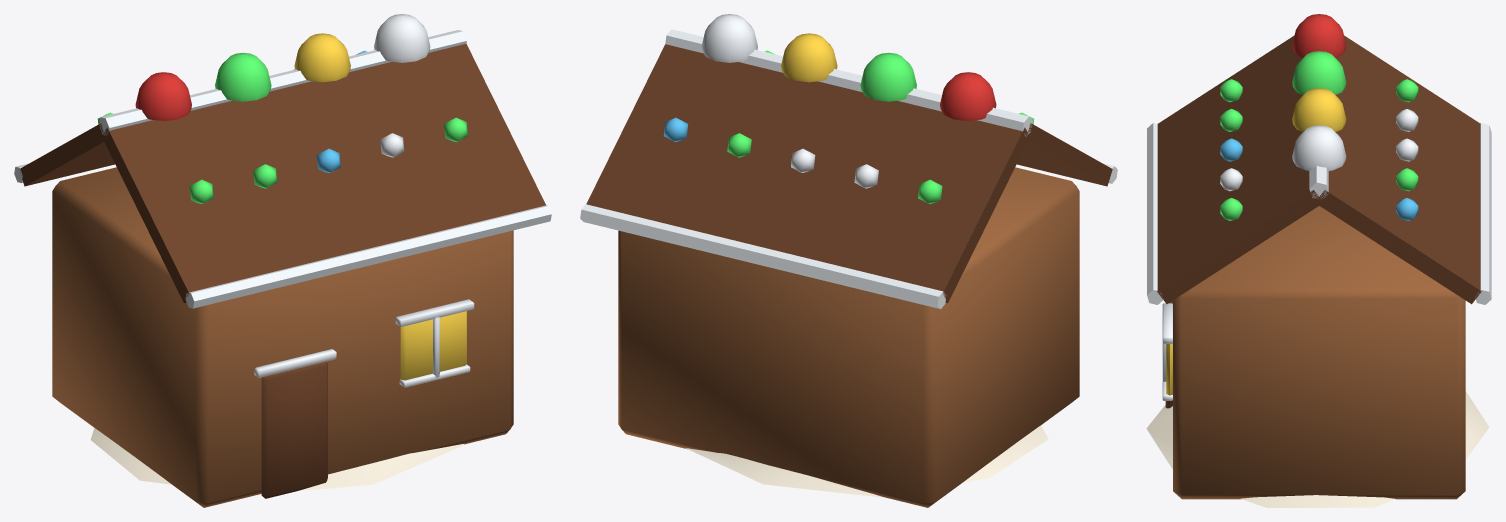
File: GingerbreadHouse.fbx
The picture shows the model from 3 angles, left to right: view 1: azimuth 30°, elevation 25°; view 2: azimuth 150°, elevation 25°; view 3: azimuth 270°, elevation 25°; orthographic projection. The views are drawn at different scales.
Visible parts, largest first — view 1: GingerbreadHouse; view 2: GingerbreadHouse; view 3: GingerbreadHouse.
Boxes of the visible parts, x1,y1,x2,y2 form: GingerbreadHouse: (14, 14, 551, 507); GingerbreadHouse: (580, 14, 1117, 507); GingerbreadHouse: (1146, 14, 1491, 507).
Size of the model in its own units: 4.86 by 4.84 by 4.25.
Materials: 2 (2 with a texture image).
